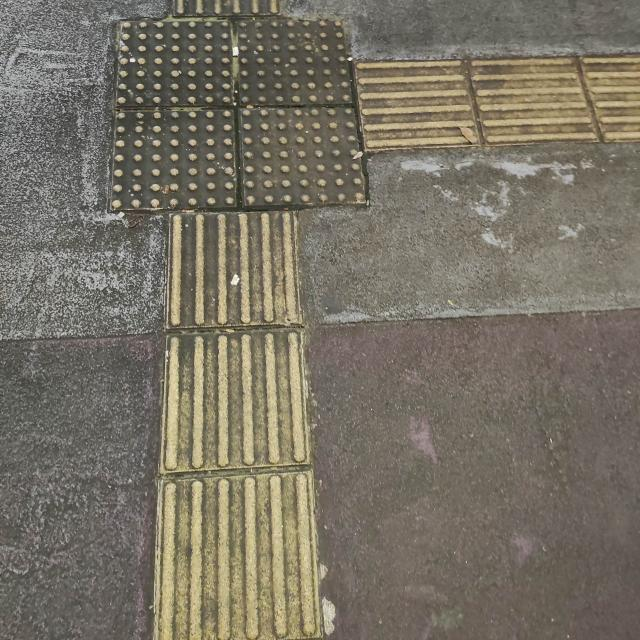kanan: (123, 28, 518, 248)
